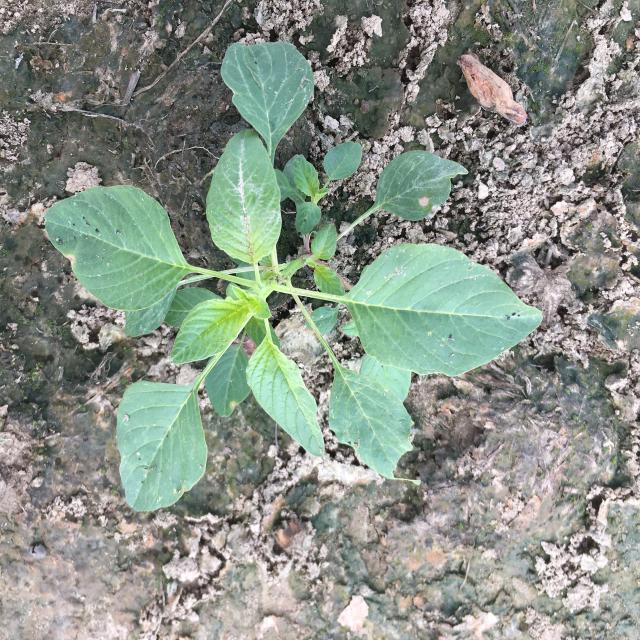PalmerAmaranth: (44, 42, 543, 513)
